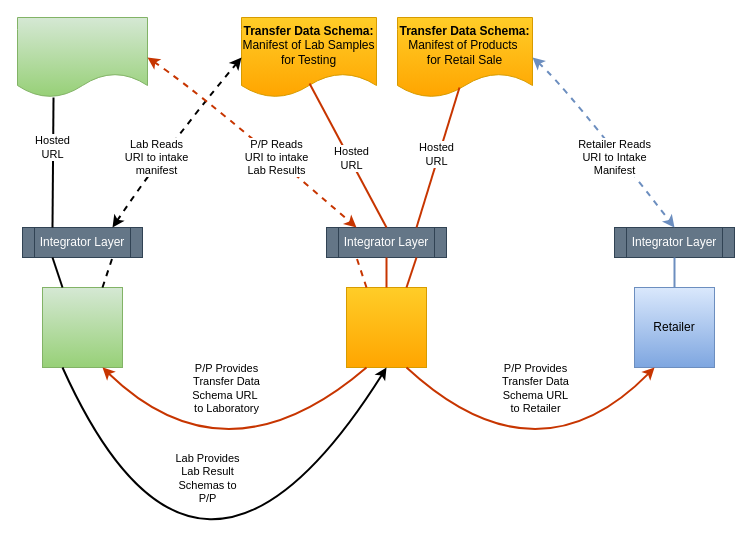
Some shapes in this 752 by 538 pixel diagram are drawn without their labels. Here are the shapes that lost their labels. From the top down, the box of each, then its label:
(16, 16, 148, 98): Lab Result Schema: Lab Results for a Tested Sample
(42, 286, 122, 368): Testing Laboratory
(346, 286, 426, 368): Producer / Processor
